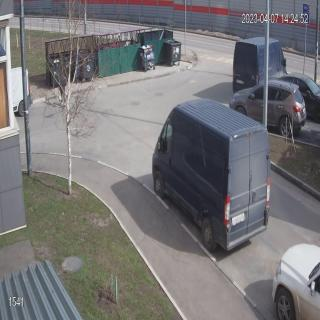Car: (151, 98, 271, 252), (228, 79, 306, 138), (272, 242, 320, 320), (268, 72, 320, 123), (11, 66, 31, 117)
